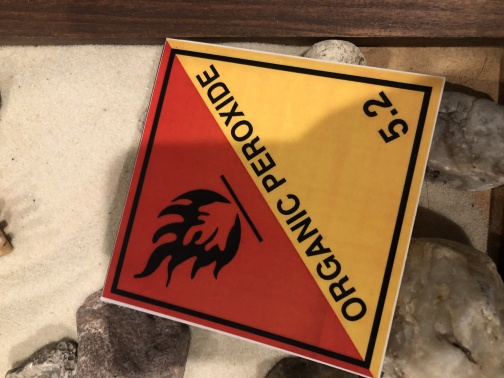OrganicPeroxide: (103, 39, 446, 378)
